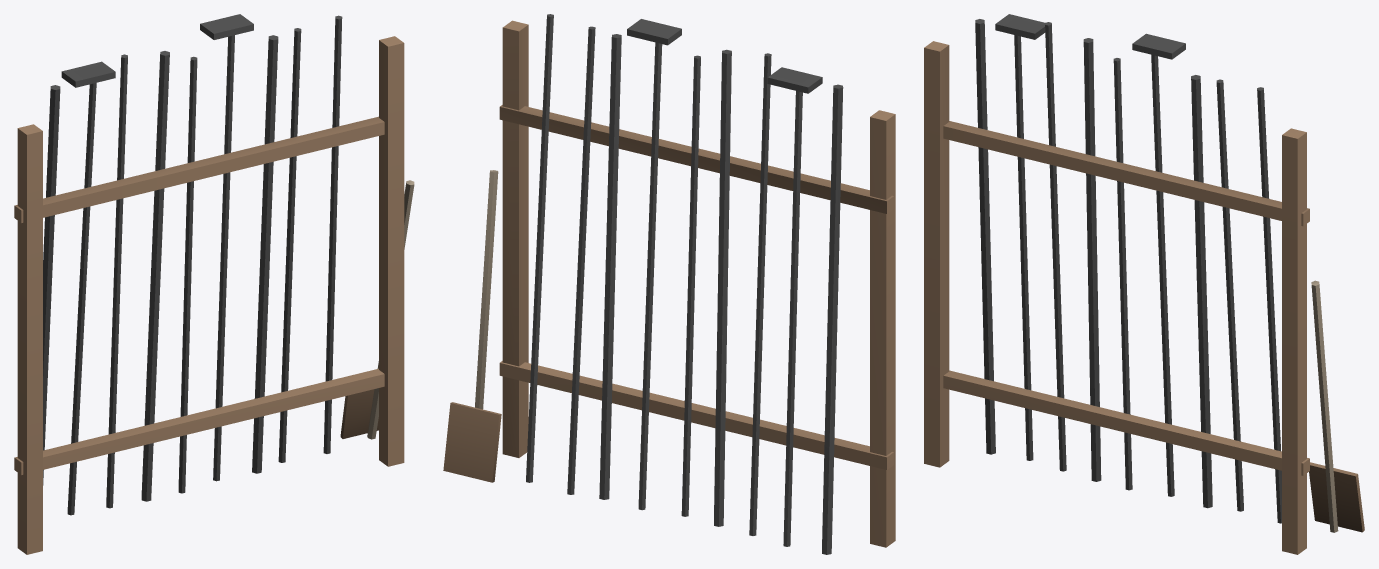
Rendered from bar_rack.glb.
The picture shows the model from 3 angles, left to right: view 1: azimuth 30°, elevation 25°; view 2: azimuth 150°, elevation 25°; view 3: azimuth 330°, elevation 25°; orthographic projection. The views are drawn at different scales.
Parts seen in each view (by area): view 1: static; view 2: static; view 3: static.
Part boxes in pixels (x1=…): static: x1=14, y1=14, x2=414, y2=554; static: x1=443, y1=14, x2=895, y2=554; static: x1=924, y1=14, x2=1364, y2=554.
Bounding box in the file's own units: 2.02 × 2.21 × 0.3596.
